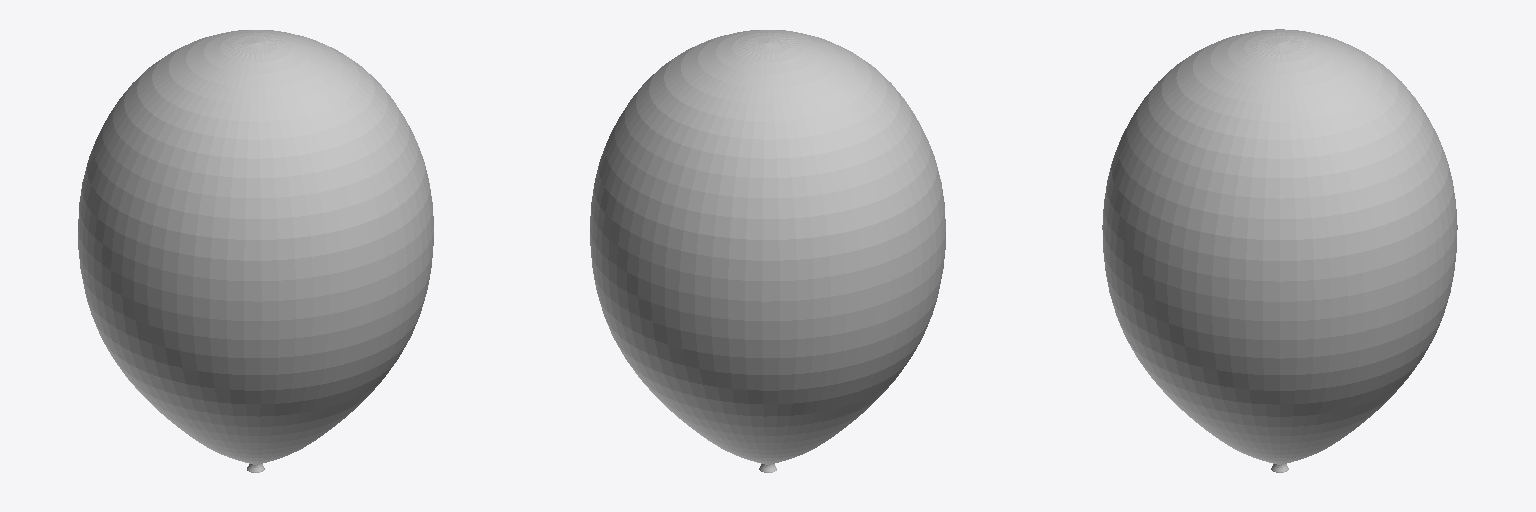
Rendered from Globo9.obj.
3 renders of one model, left to right at view 1: azimuth 30°, elevation 25°; view 2: azimuth 150°, elevation 25°; view 3: azimuth 270°, elevation 25°, orthographic.
Parts seen in each view (by area): view 1: Sphere.017; view 2: Sphere.017; view 3: Sphere.017.
Boxes of the visible parts, box(x1,y1,x2,y2) form: Sphere.017: box(78, 30, 433, 472); Sphere.017: box(590, 30, 945, 472); Sphere.017: box(1102, 29, 1457, 472).
Bounding box in the file's own units: 0.5211 × 0.688 × 0.519.